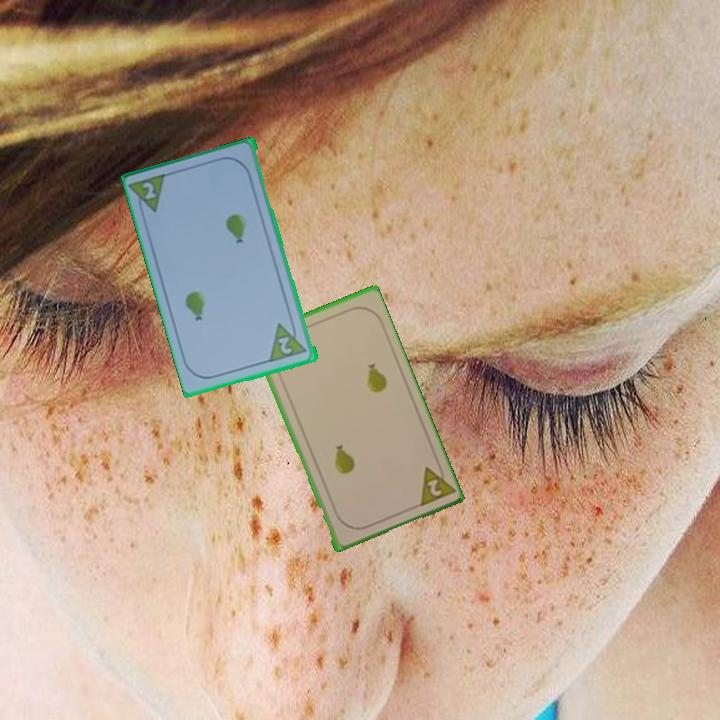2p: (413, 457, 456, 510), (139, 178, 159, 203), (275, 333, 295, 357)
